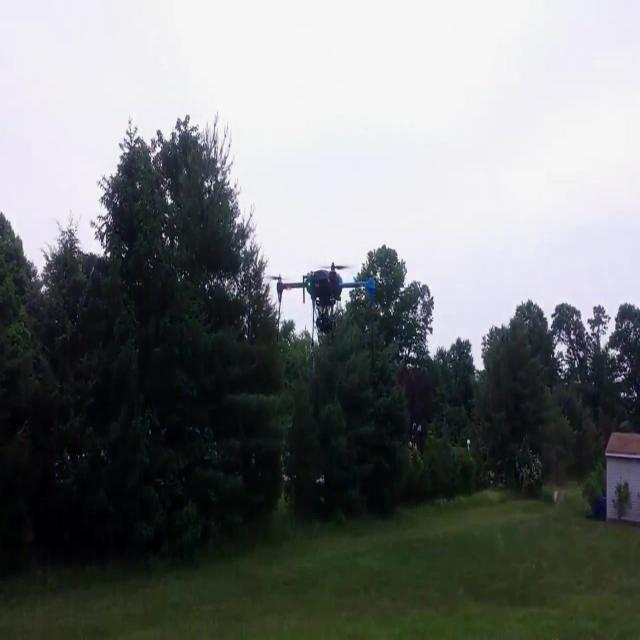drone: (266, 258, 381, 352)
